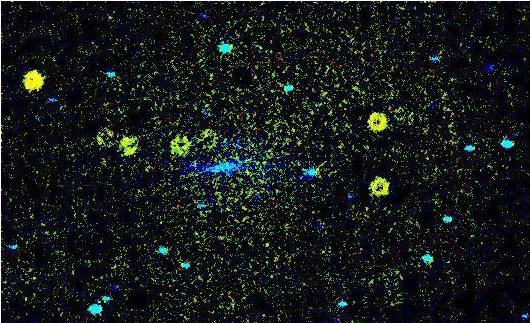star: (216, 129, 246, 159)
